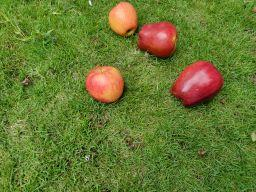apple: (169, 53, 234, 116), (77, 61, 137, 109), (133, 17, 185, 62), (103, 0, 142, 42)
